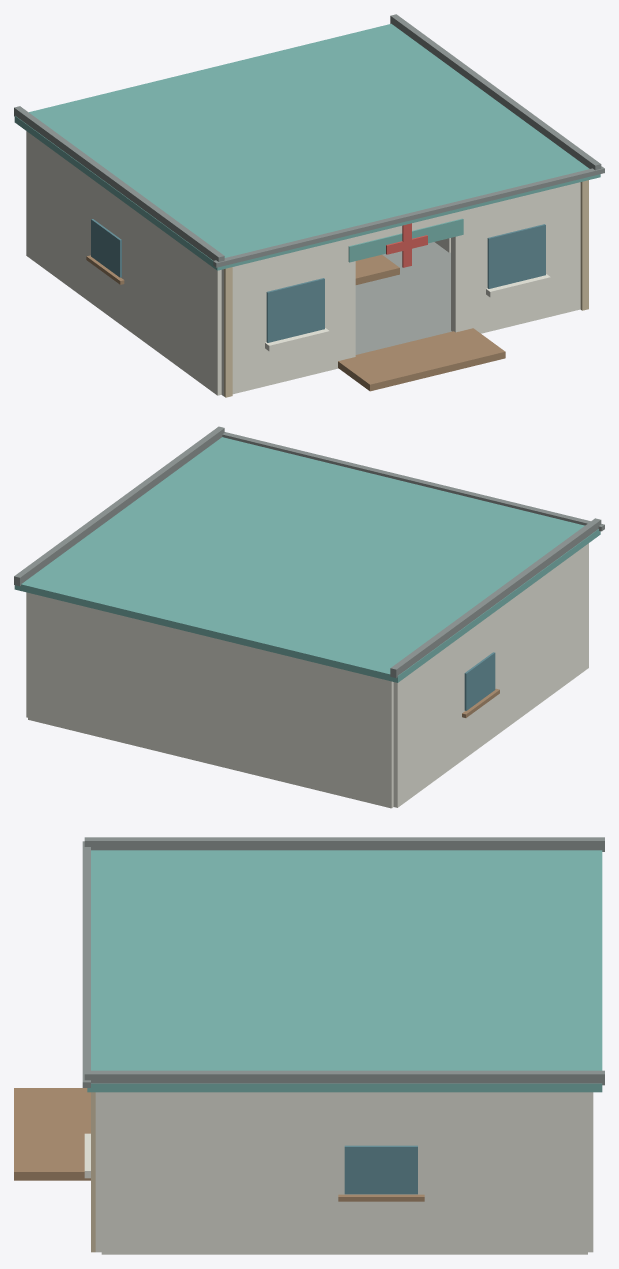
File: renovated_clinic.glb
The picture shows the model from 3 angles, top to bottom: view 1: azimuth 30°, elevation 25°; view 2: azimuth 150°, elevation 25°; view 3: azimuth 270°, elevation 25°; orthographic projection. The views are drawn at different scales.
Parts seen in each view (by area): view 1: roof deck.001, WALL_side masonry.002, WALL_entrance pier.003, WALL_entrance pier.002, FLOOR_repaired slab.001, porch landing.001, front rain gutter.001, clinic front window, clinic front window.001, roof edge.003, roof edge.002, clinic enamel entrance header (+7 smaller); view 2: roof deck.001, WALL_rear masonry.001, WALL_side masonry.002, roof edge.002, roof edge.003, front rain gutter.001, side reused window.002; view 3: roof deck.001, WALL_side masonry.003, roof edge.003, roof edge.002, porch landing.001, side reused window.003, front rain gutter.001, WALL_entrance pier.003, WALL_rear masonry.001, corner plaster trim.003, side window sill.003.
Boxes of the visible parts, left/top/right/bottom form: roof deck.001: left=14, top=23, right=600, bottom=270; WALL_side masonry.002: left=26, top=131, right=221, bottom=395; WALL_entrance pier.003: left=451, top=182, right=580, bottom=333; WALL_entrance pier.002: left=221, top=237, right=355, bottom=396; FLOOR_repaired slab.001: left=355, top=242, right=451, bottom=354; porch landing.001: left=338, top=328, right=505, bottom=391; front rain gutter.001: left=213, top=166, right=604, bottom=267; clinic front window: left=266, top=278, right=324, bottom=342; clinic front window.001: left=487, top=224, right=545, bottom=288; roof edge.003: left=390, top=14, right=601, bottom=170; roof edge.002: left=14, top=106, right=224, bottom=261; clinic enamel entrance header: left=348, top=218, right=463, bottom=262; roof deck.001: left=14, top=437, right=600, bottom=682; WALL_rear masonry.001: left=28, top=593, right=393, bottom=808; WALL_side masonry.002: left=393, top=543, right=588, bottom=807; roof edge.002: left=390, top=518, right=601, bottom=678; roof edge.003: left=14, top=426, right=224, bottom=586; front rain gutter.001: left=222, top=432, right=604, bottom=531; side reused window.002: left=464, top=652, right=495, bottom=710; roof deck.001: left=87, top=850, right=602, bottom=1092; WALL_side masonry.003: left=101, top=1092, right=587, bottom=1254; roof edge.003: left=84, top=1070, right=604, bottom=1085; roof edge.002: left=84, top=837, right=604, bottom=851; porch landing.001: left=14, top=1088, right=90, bottom=1180; side reused window.003: left=344, top=1145, right=417, bottom=1194; front rain gutter.001: left=82, top=841, right=90, bottom=1087; WALL_entrance pier.003: left=95, top=1092, right=101, bottom=1252; WALL_rear masonry.001: left=588, top=1092, right=593, bottom=1252; corner plaster trim.003: left=91, top=1092, right=95, bottom=1252; side window sill.003: left=338, top=1194, right=424, bottom=1201.
Bounding box in the file's own units: 10.9 × 3.88 × 11.3.
